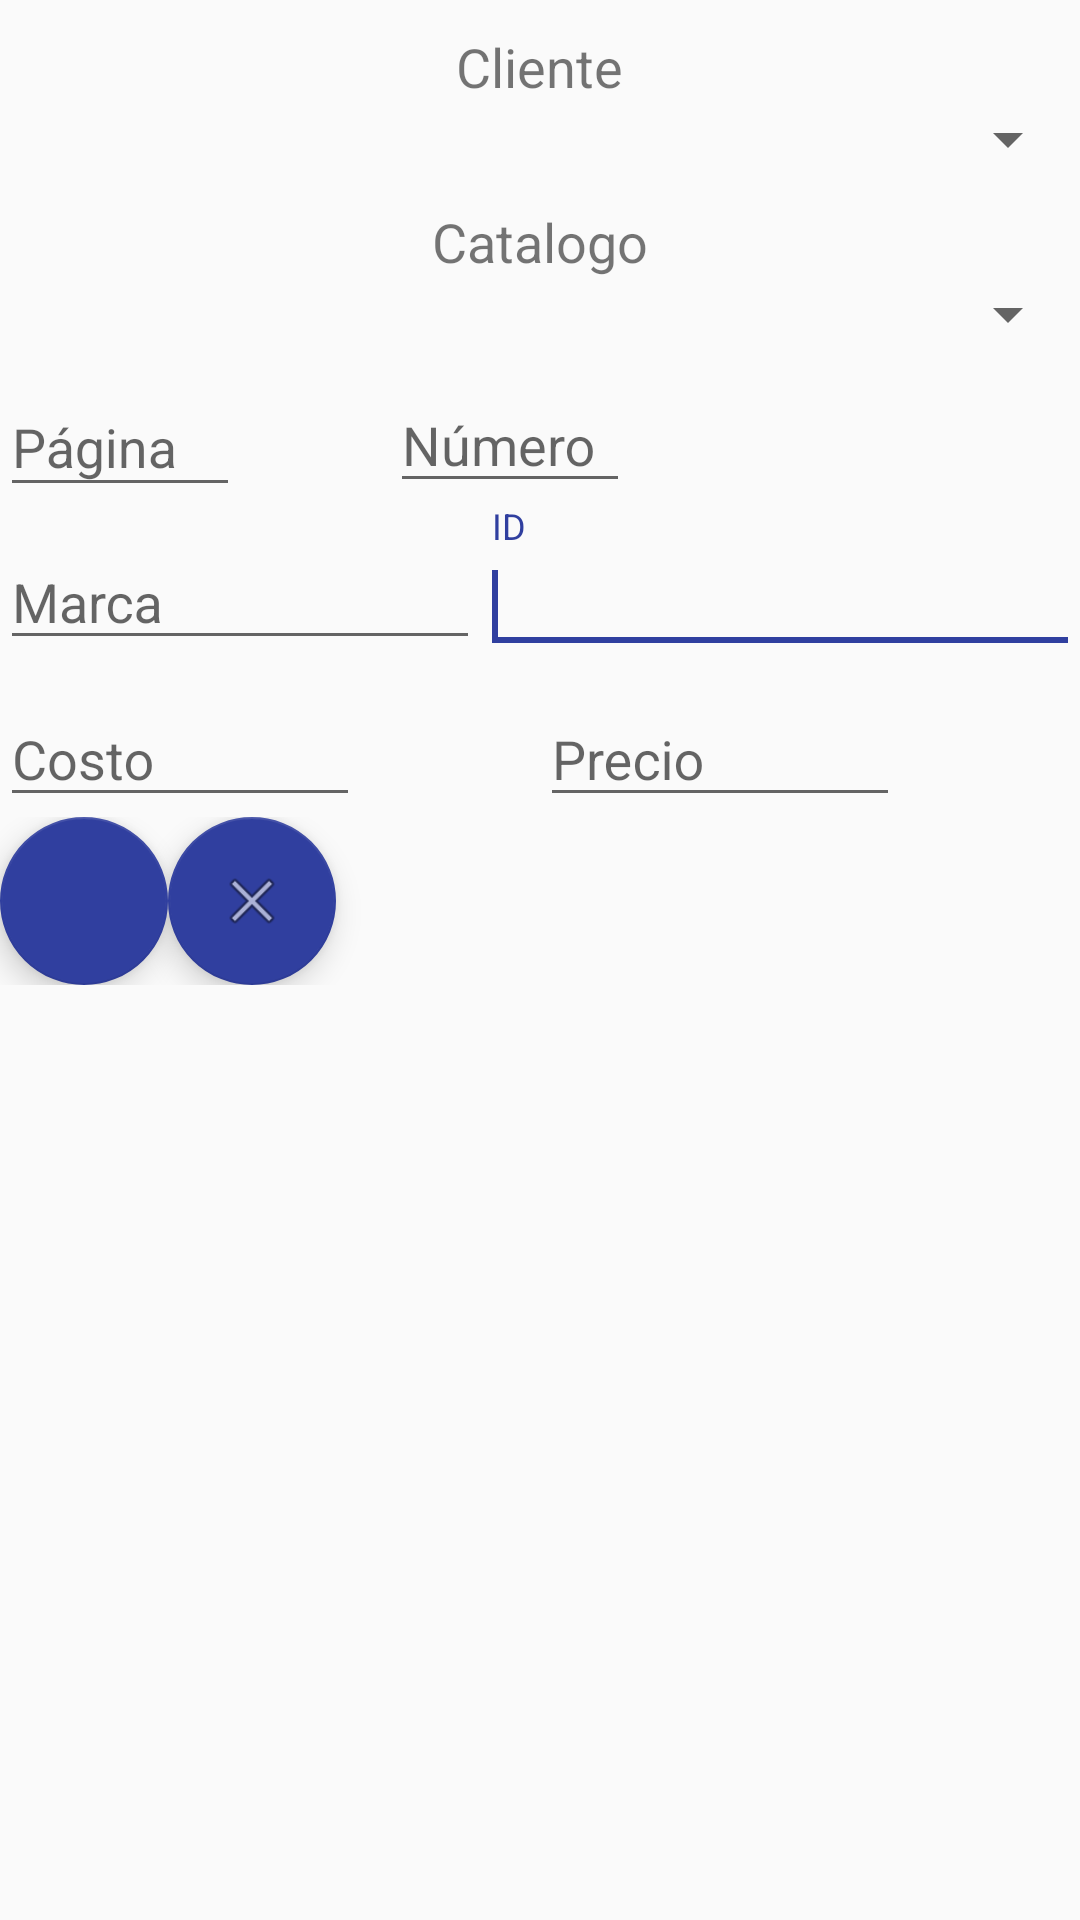

Icons on this 1080w x 1920h Android screen, each with the point to tap as (x,y):
close clear cancel: (252,901)
